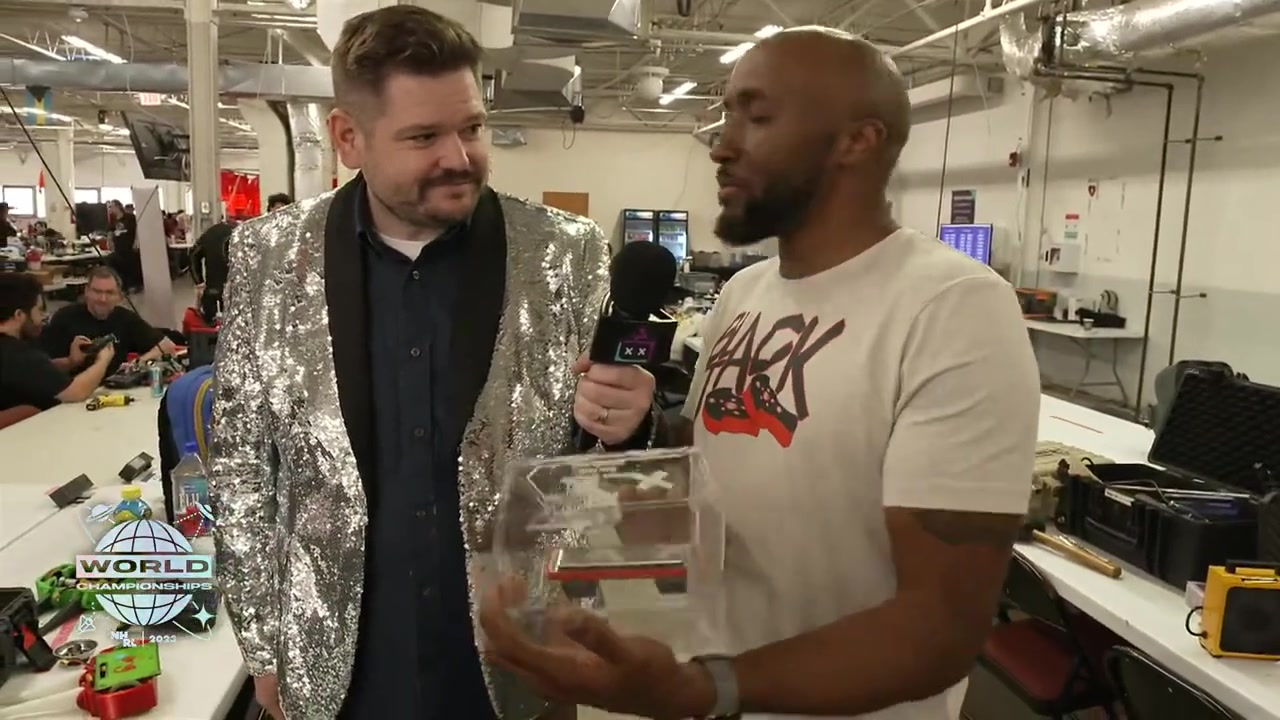minibot: (82, 643, 159, 713)
